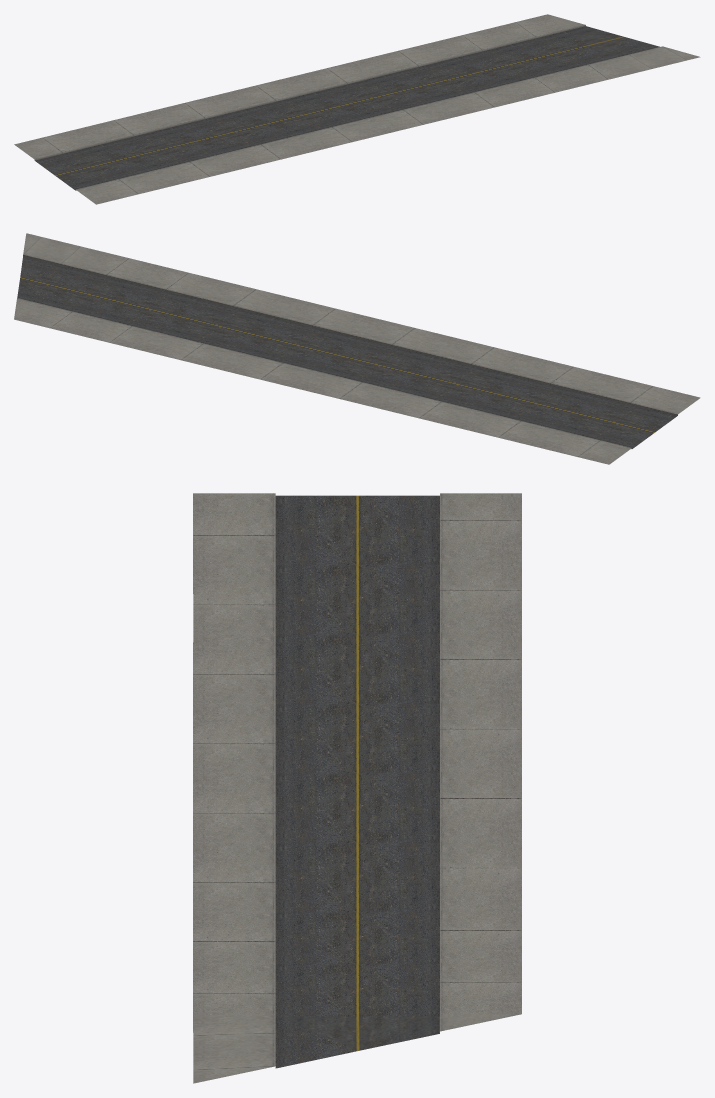
File: vgseedge13.obj
The picture shows the model from 3 angles, top to bottom: view 1: azimuth 30°, elevation 25°; view 2: azimuth 150°, elevation 25°; view 3: azimuth 270°, elevation 25°; orthographic projection. The views are drawn at different scales.
Parts seen in each view (by area): view 1: vgsEedge13; view 2: vgsEedge13; view 3: vgsEedge13.
Part boxes in pixels (bbox=[...]): vgsEedge13: bbox=[14, 14, 700, 204]; vgsEedge13: bbox=[14, 233, 700, 464]; vgsEedge13: bbox=[193, 493, 521, 1083].
Size of the model in its own units: 85 by 0.15 by 20.03.
2 materials, 2 textured.
